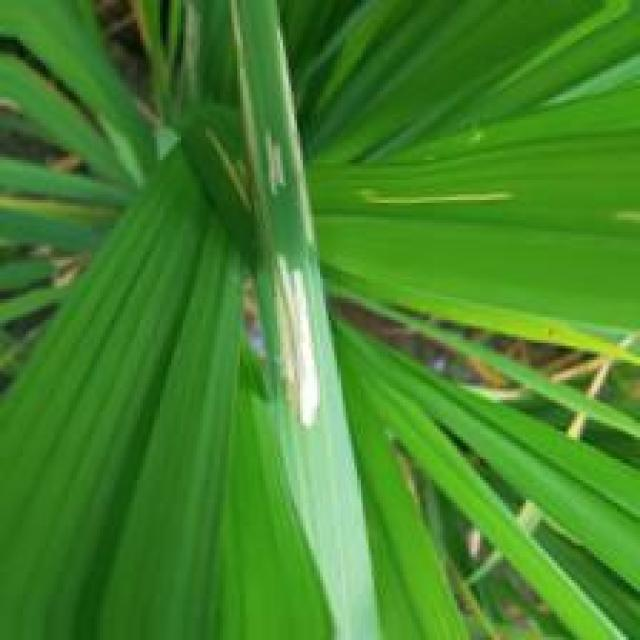Rice_Hispa: (272, 251, 328, 431), (281, 35, 313, 241), (264, 139, 286, 193)
